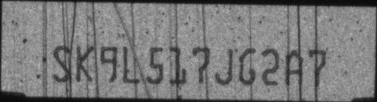1: (168, 45, 188, 85)
2: (260, 47, 278, 85)
5: (146, 45, 165, 85)
7: (191, 46, 210, 82), (309, 48, 327, 85)
9: (99, 43, 118, 82)
A: (285, 50, 304, 87)
G: (239, 47, 258, 85)
J: (214, 45, 234, 84)
K: (75, 43, 94, 82)
L: (122, 44, 141, 83)
S: (52, 44, 70, 82)
